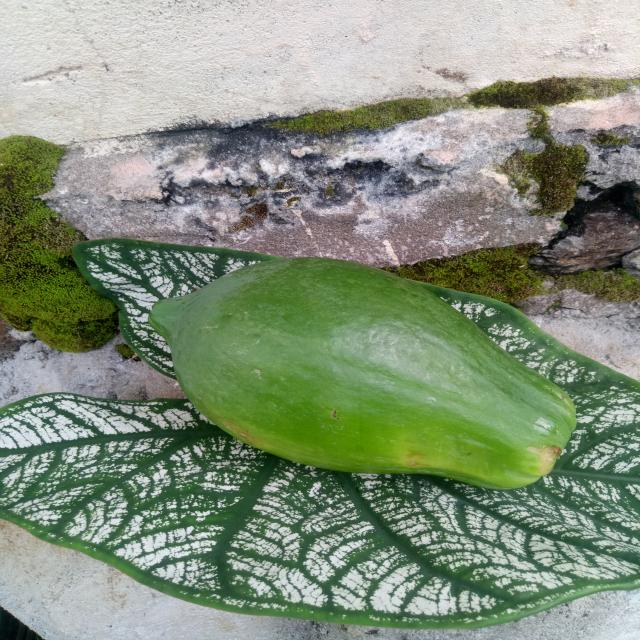Pepaya unrippen: (140, 258, 576, 499)
